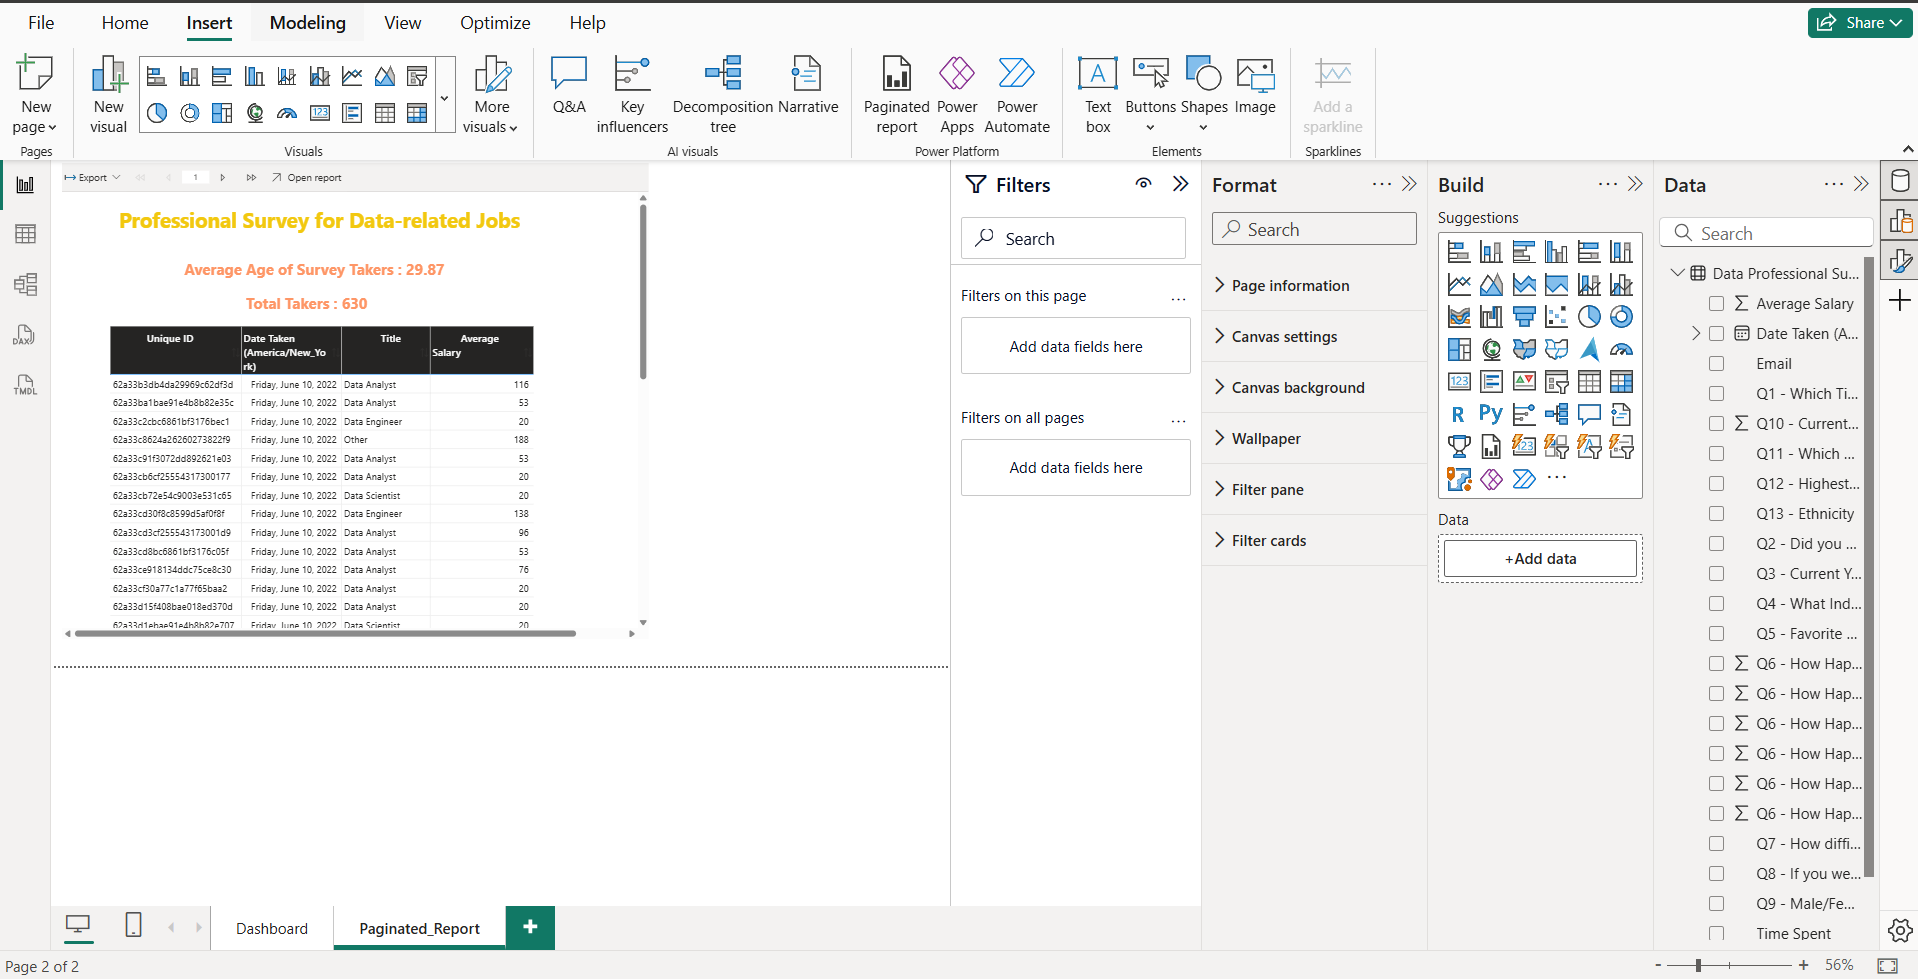

The dashboard page shown, as its layout file describes it:
{"tool":"powerbi","page":{"name":"Paginated_Report","canvas":[1280,720],"ordinal":1},"visuals":[{"type":"rdlVisual","box":[10.7,0,845.4,687],"z":0}]}

Visuals, with their boxes on the page's 1280x720 design canvas (x1, y1, x2, y2). These are canvas units, not pixel positions in the 1918x979 screenshot, which may show the page scaled, cropped or inside an application window:
rdlVisual: locate(11, 0, 856, 687)
